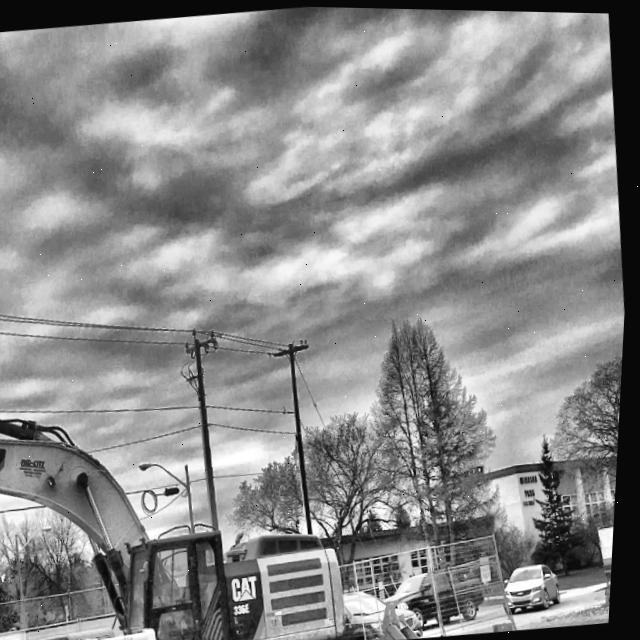buldozerpayloadergrader: (22, 618, 178, 640)
excavator: (0, 313, 381, 640)
